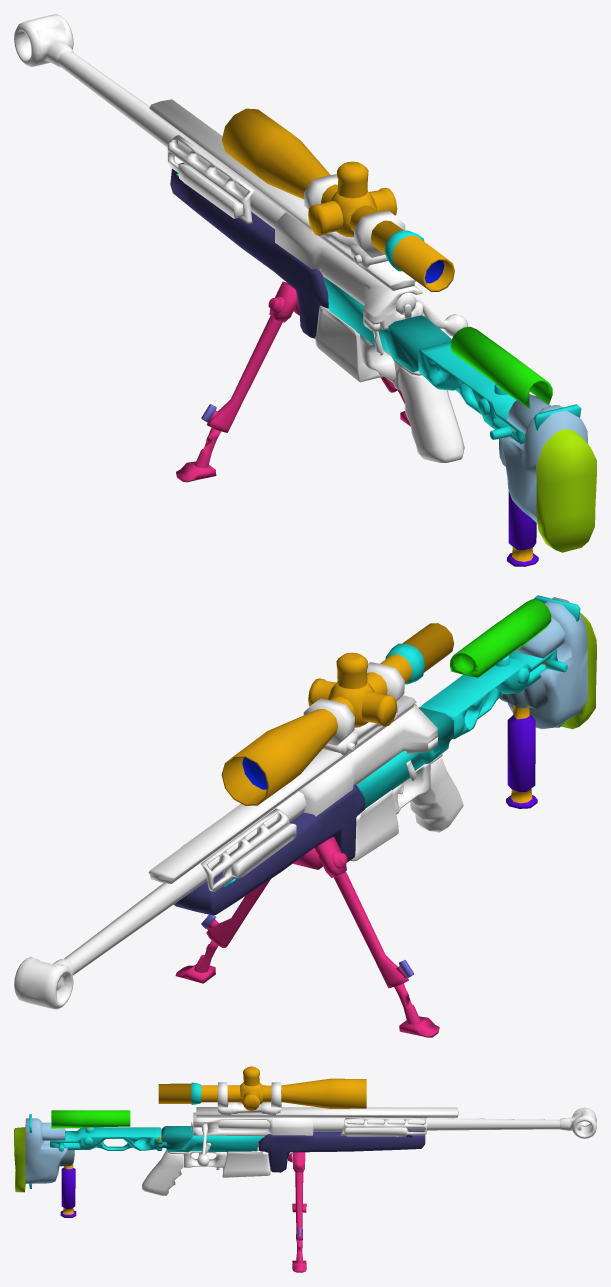
The model's file is miniHecate2_low.fbx.
The picture shows the model from 3 angles, top to bottom: view 1: azimuth 30°, elevation 25°; view 2: azimuth 150°, elevation 25°; view 3: azimuth 270°, elevation 25°; orthographic projection. The views are drawn at different scales.
Parts seen in each view (by area): view 1: MH2_stock_low, MH2_scope_low, MH2_barrel_low, MH2_rails_low, MH2_handguard_low, MH2_actionRail_low, MH2_bipod_low, MH2_grip_low, MH2_receiver_low, MH2_scope_base_low, MH2_magazine_low, MH2_hgAccessory_low (+2 smaller); view 2: MH2_stock_low, MH2_scope_low, MH2_barrel_low, MH2_bipod_low, MH2_rails_low, MH2_handguard_low, MH2_actionRail_low, MH2_receiver_low, MH2_scope_base_low, MH2_grip_low, MH2_hgAccessory_low, MH2_magazine_low (+1 smaller); view 3: MH2_stock_low, MH2_scope_low, MH2_barrel_low, MH2_handguard_low, MH2_rails_low, MH2_receiver_low, MH2_actionRail_low, MH2_bipod_low, MH2_magazine_low, MH2_grip_low, MH2_scope_base_low, MH2_bolt_low (+2 smaller).
Boxes of the visible parts, x1,y1,x2,y2 form: MH2_stock_low: [418, 326, 596, 566]; MH2_scope_low: [222, 108, 454, 291]; MH2_barrel_low: [14, 14, 285, 228]; MH2_rails_low: [149, 99, 415, 290]; MH2_handguard_low: [170, 162, 328, 338]; MH2_actionRail_low: [275, 212, 422, 331]; MH2_bipod_low: [176, 281, 410, 482]; MH2_grip_low: [400, 367, 464, 462]; MH2_receiver_low: [323, 277, 451, 372]; MH2_scope_base_low: [304, 174, 405, 268]; MH2_magazine_low: [315, 305, 383, 382]; MH2_hgAccessory_low: [167, 135, 254, 223]; MH2_stock_low: [414, 595, 596, 808]; MH2_scope_low: [221, 623, 454, 805]; MH2_barrel_low: [14, 791, 306, 1009]; MH2_bipod_low: [175, 836, 439, 1037]; MH2_rails_low: [148, 695, 416, 883]; MH2_handguard_low: [173, 784, 365, 915]; MH2_actionRail_low: [299, 705, 438, 816]; MH2_receiver_low: [357, 707, 453, 808]; MH2_scope_base_low: [303, 662, 404, 755]; MH2_grip_low: [410, 757, 463, 832]; MH2_hgAccessory_low: [201, 808, 289, 891]; MH2_magazine_low: [350, 790, 398, 861]; MH2_stock_low: [14, 1110, 162, 1217]; MH2_scope_low: [158, 1066, 366, 1110]; MH2_barrel_low: [313, 1107, 596, 1138]; MH2_handguard_low: [258, 1130, 425, 1172]; MH2_rails_low: [196, 1107, 458, 1136]; MH2_receiver_low: [157, 1126, 263, 1152]; MH2_actionRail_low: [193, 1112, 313, 1137]; MH2_bipod_low: [288, 1152, 306, 1272]; MH2_magazine_low: [222, 1142, 270, 1177]; MH2_grip_low: [142, 1149, 183, 1195]; MH2_scope_base_low: [217, 1082, 281, 1115]; MH2_bolt_low: [191, 1120, 269, 1166].
Size of the model in its own units: 143 by 169 by 523.
